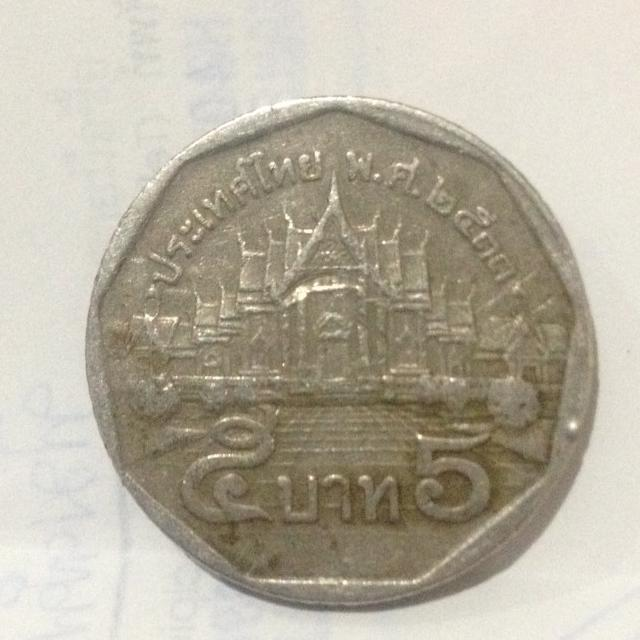5-baht: (70, 83, 616, 631)
